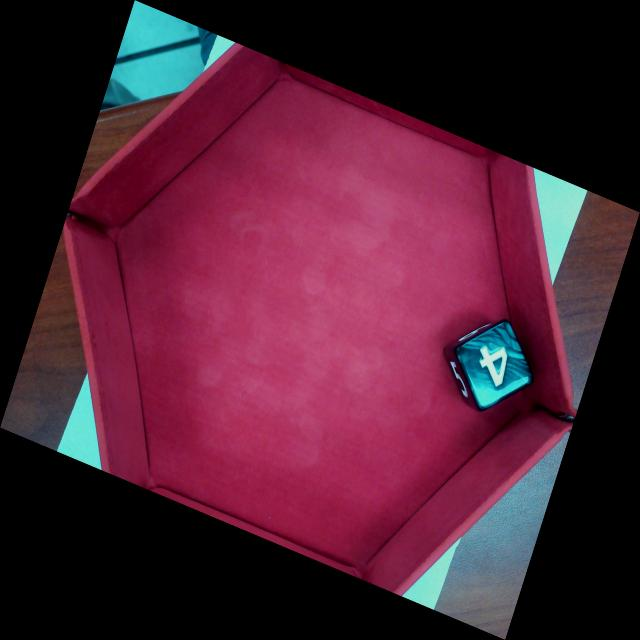dice: (462, 325, 530, 406)
